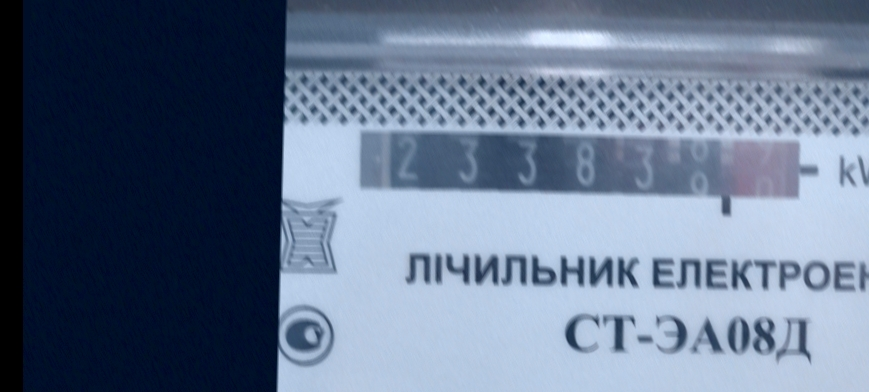0: (754, 174, 776, 200)
2: (396, 135, 421, 182)
3: (511, 137, 541, 187), (453, 135, 483, 184), (631, 143, 656, 189)
8: (571, 140, 599, 187), (688, 137, 711, 164)
9: (754, 137, 776, 168), (688, 169, 710, 198)
screen: (347, 120, 822, 221)
